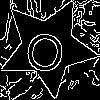O: (22, 22, 69, 75)
